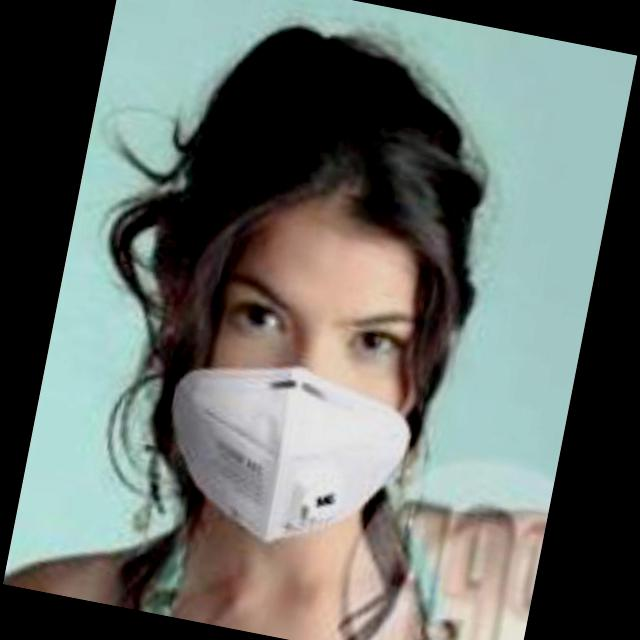suspicion: (114, 144, 504, 586)
